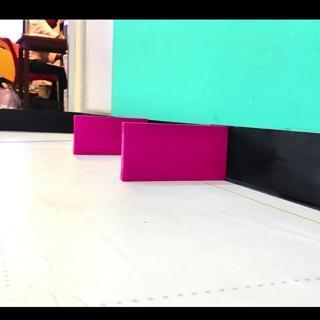xparking: (120, 126, 227, 180), (74, 114, 120, 155)
